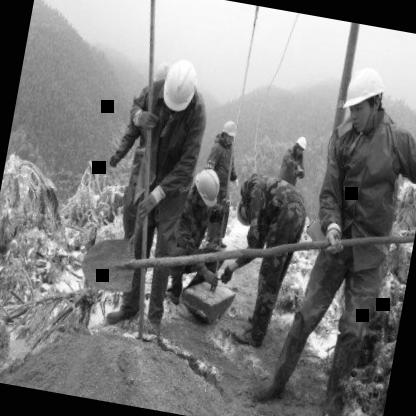helmet: (338, 55, 394, 137), (155, 52, 203, 115), (188, 163, 224, 213), (232, 191, 258, 226), (217, 116, 242, 151), (289, 132, 311, 158)
